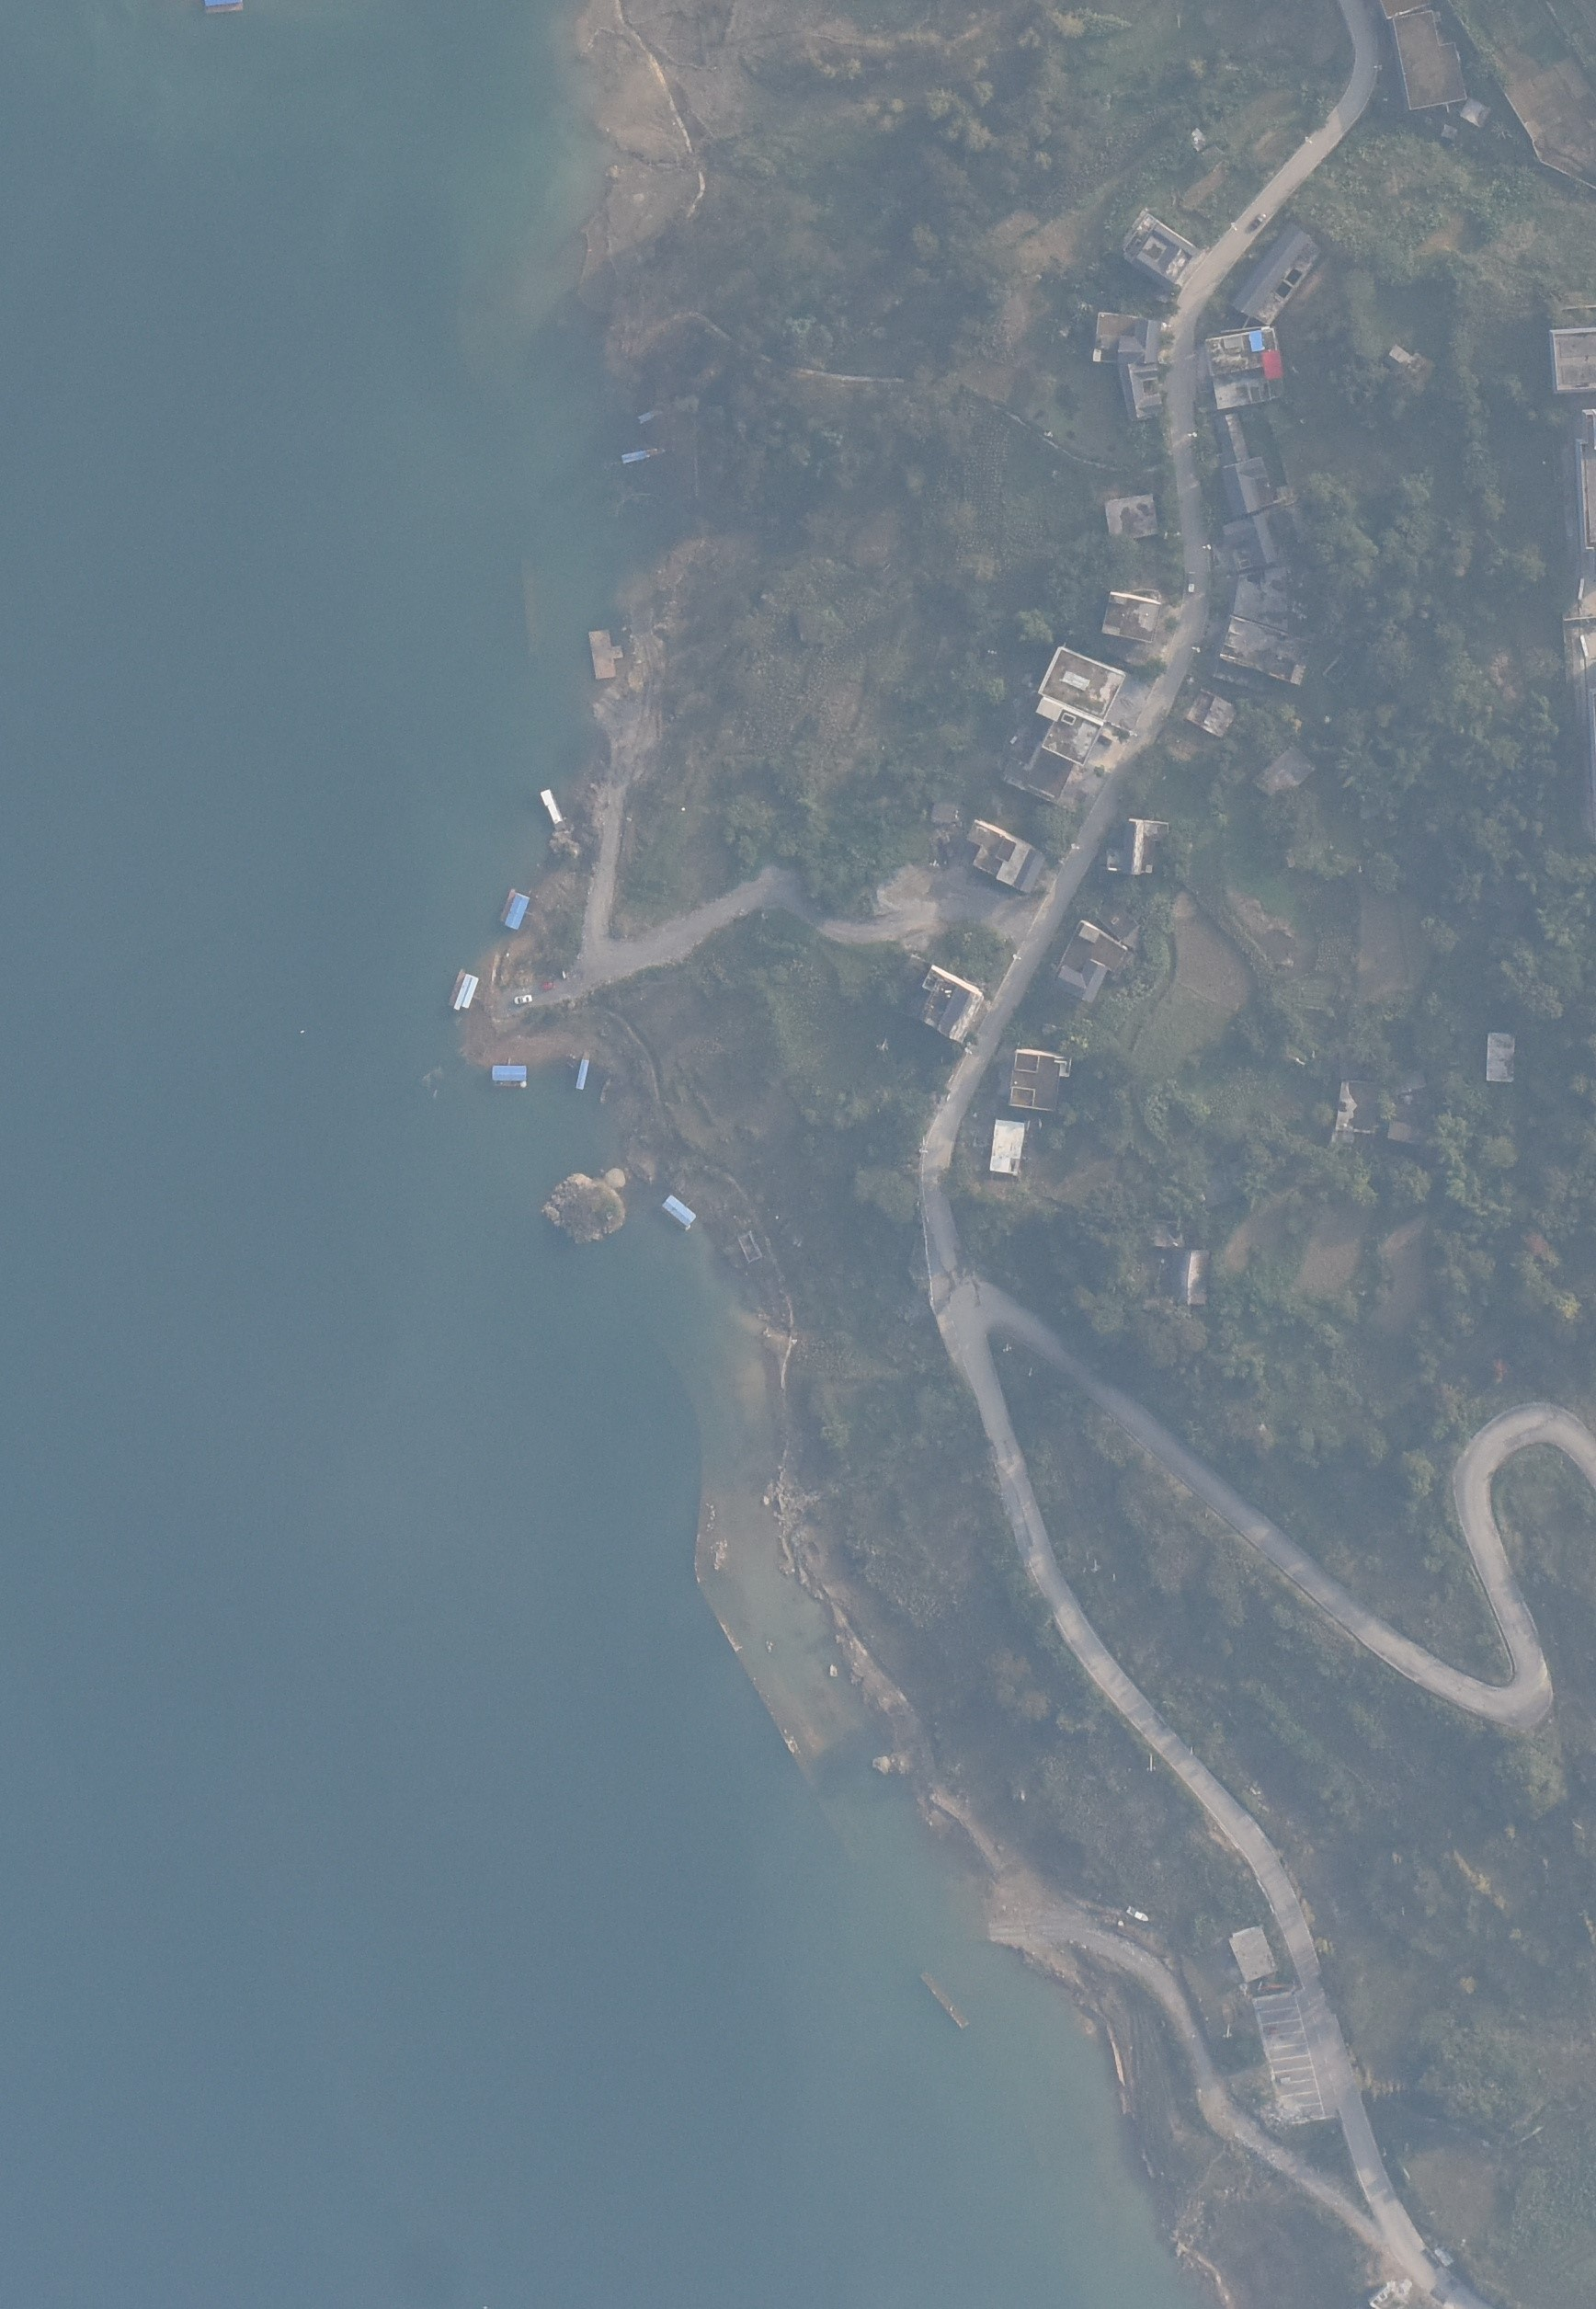building: (1233, 220, 1321, 334), (1385, 6, 1472, 117), (1052, 918, 1132, 1018), (1216, 612, 1313, 695), (1202, 323, 1294, 409), (1032, 642, 1130, 722), (959, 818, 1049, 901), (1118, 209, 1202, 291), (915, 962, 985, 1049), (1026, 696, 1106, 771), (997, 743, 1076, 807), (1008, 1045, 1074, 1118), (1252, 737, 1321, 807), (1233, 565, 1294, 634), (1091, 309, 1161, 370), (1221, 512, 1283, 575), (1546, 315, 1596, 393), (1116, 816, 1177, 878), (1111, 361, 1165, 426), (1222, 456, 1278, 518), (1335, 1078, 1389, 1141), (1099, 589, 1162, 643), (1099, 492, 1161, 542), (986, 1116, 1031, 1181), (1480, 1023, 1523, 1087), (1185, 689, 1241, 735), (1172, 1249, 1214, 1309), (1210, 414, 1253, 466), (588, 627, 624, 681)
prefabricated-house: (618, 443, 670, 474), (660, 1193, 699, 1230), (452, 970, 478, 1014), (502, 891, 530, 931), (488, 1062, 528, 1086), (573, 1057, 591, 1091)
ship: (539, 786, 565, 826), (1120, 1904, 1152, 1924)
vehicle: (1242, 212, 1265, 236), (509, 993, 534, 1008), (1186, 565, 1197, 595)
